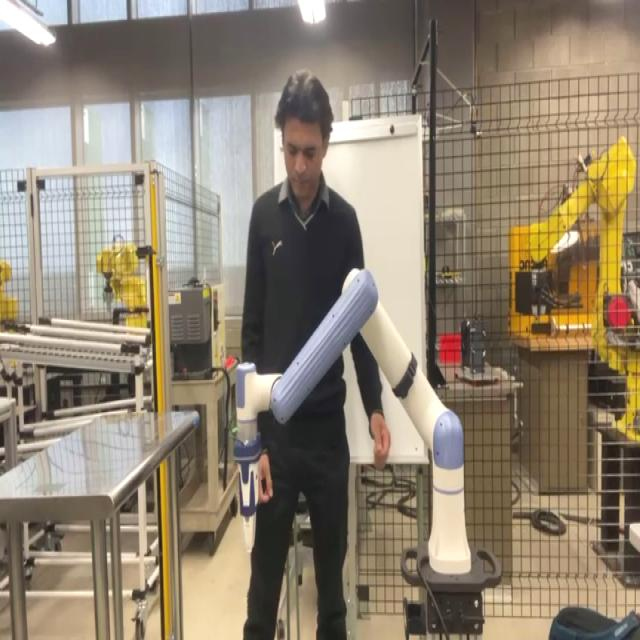robot: (233, 264, 503, 637)
